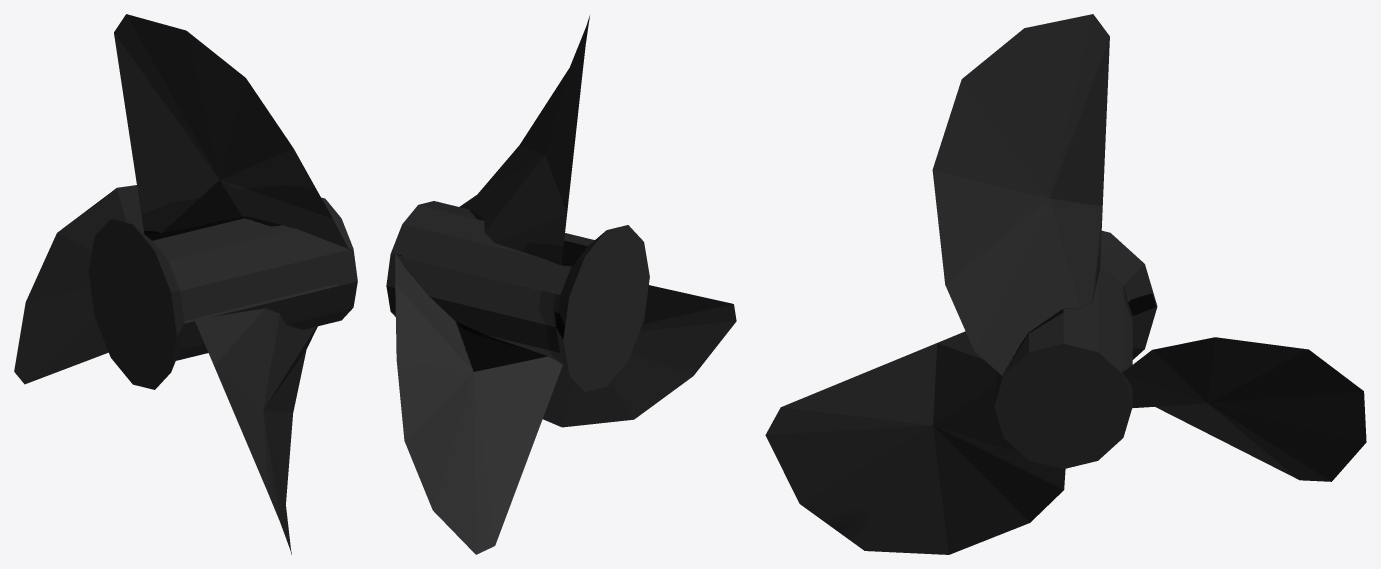
File: prop.dae
The picture shows the model from 3 angles, left to right: view 1: azimuth 30°, elevation 25°; view 2: azimuth 150°, elevation 25°; view 3: azimuth 270°, elevation 25°; orthographic projection. The views are drawn at different scales.
Parts seen in each view (by area): view 1: propeller; view 2: propeller; view 3: propeller.
Part boxes in pixels (left/top/right/bottom): propeller: left=14, top=14, right=357, bottom=554; propeller: left=386, top=15, right=736, bottom=554; propeller: left=765, top=14, right=1366, bottom=554.
Bounding box in the file's own units: 0.0849 × 0.2159 × 0.201.
Materials: 1 (1 with a texture image).
